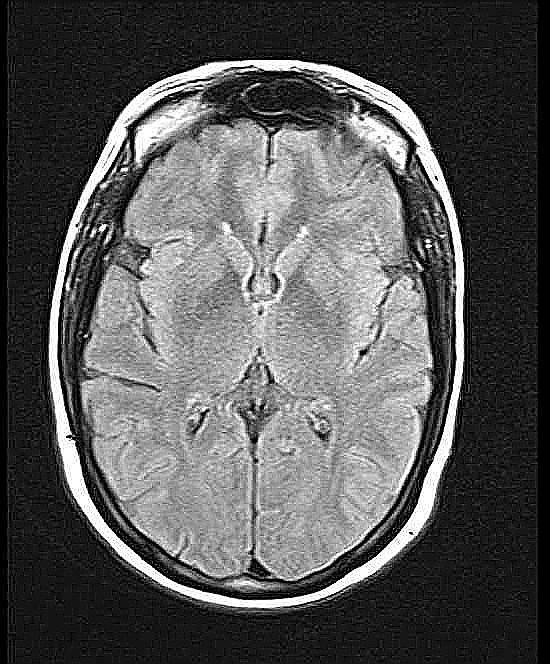Normal_Brain: (5, 8, 550, 664)
